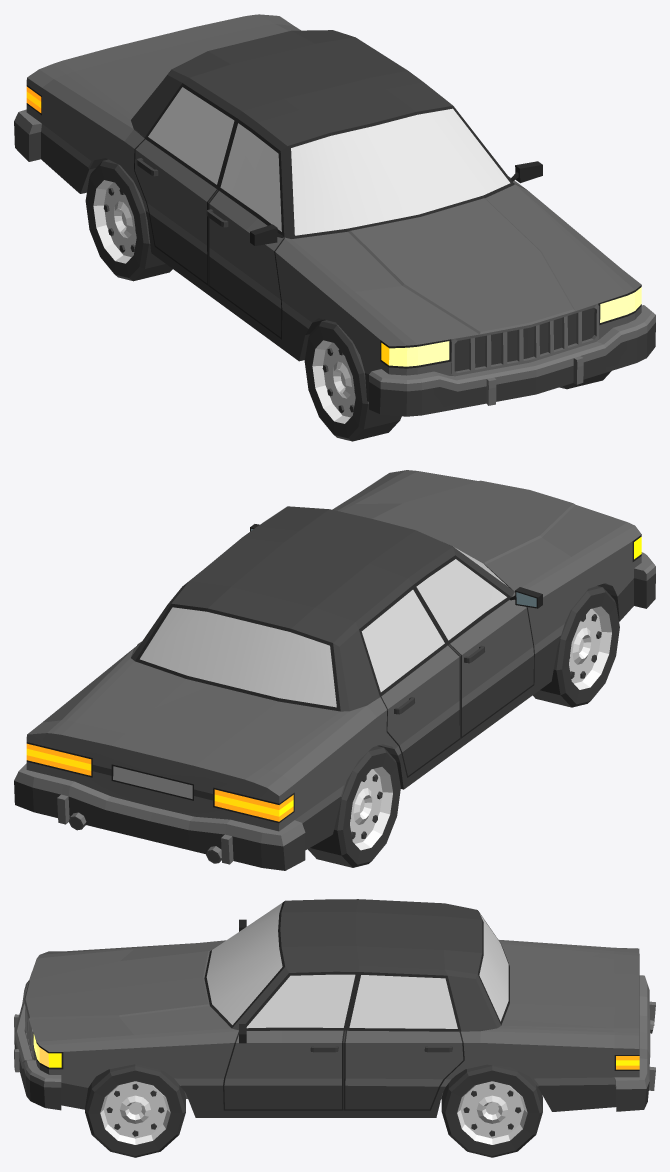
File: car-default.glb
3 renders of one model, top to bottom at view 1: azimuth 30°, elevation 25°; view 2: azimuth 150°, elevation 25°; view 3: azimuth 270°, elevation 25°, orthographic. The views are drawn at different scales.
Parts seen in each view (by area): view 1: Sedan Car_3 Lod_0, Sedan Car_3 FR Door, Sedan Car_3 BR Door, Sedan Car_3 FR Tire, Sedan Car_3 BR Tire; view 2: Sedan Car_3 Lod_0, Sedan Car_3 FR Door, Sedan Car_3 BR Door, Sedan Car_3 BR Tire, Sedan Car_3 FR Tire; view 3: Sedan Car_3 Lod_0, Sedan Car_3 FL Door, Sedan Car_3 BL Door, Sedan Car_3 BL Tire, Sedan Car_3 FL Tire.
Boxes of the visible parts, x1,y1,x2,y2 form: Sedan Car_3 Lod_0: (14, 14, 655, 416); Sedan Car_3 FR Door: (206, 118, 284, 339); Sedan Car_3 BR Door: (134, 83, 236, 285); Sedan Car_3 FR Tire: (304, 320, 401, 441); Sedan Car_3 BR Tire: (85, 159, 172, 281); Sedan Car_3 Lod_0: (14, 470, 655, 870); Sedan Car_3 FR Door: (413, 555, 542, 738); Sedan Car_3 BR Door: (359, 586, 460, 777); Sedan Car_3 BR Tire: (307, 746, 400, 867); Sedan Car_3 FR Tire: (533, 586, 619, 707); Sedan Car_3 Lod_0: (14, 899, 655, 1117); Sedan Car_3 FL Door: (223, 971, 358, 1110); Sedan Car_3 BL Door: (343, 972, 464, 1110); Sedan Car_3 BL Tire: (441, 1064, 542, 1157); Sedan Car_3 FL Tire: (85, 1064, 185, 1157).
Size of what is drawn, in the model's own units: 2.1 by 1.53 by 4.97.
3 materials, 2 textured.
